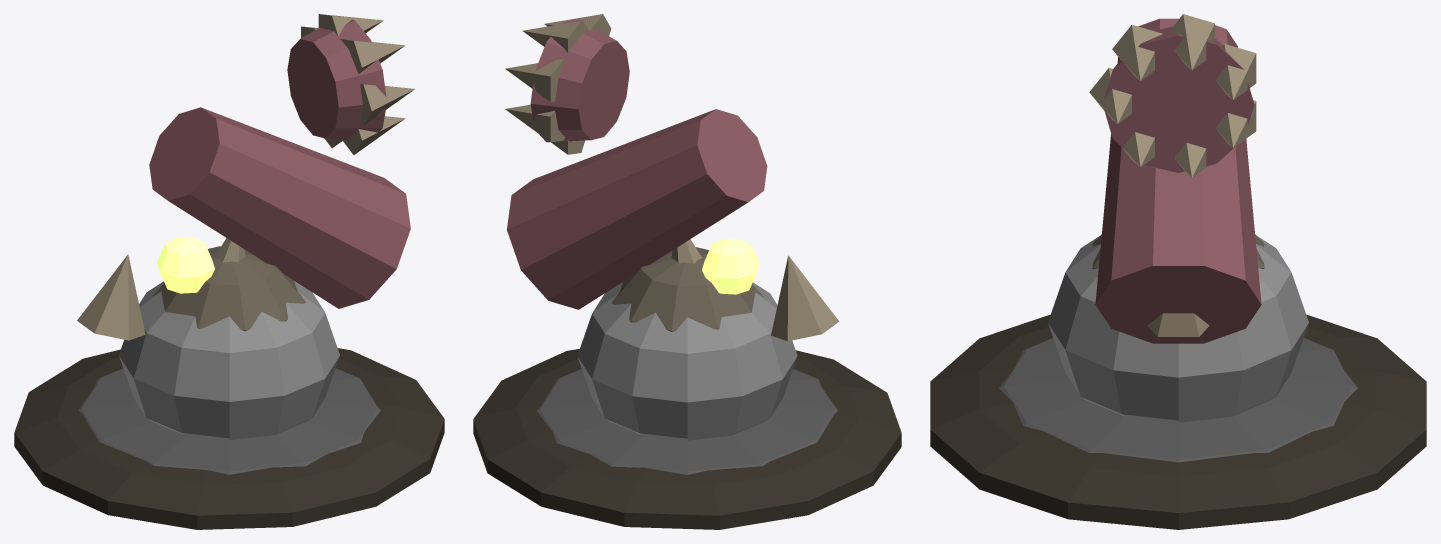
Rendered from bl_spitter_aa.glb.
3 views of the same model, side by side, from view 1: azimuth 30°, elevation 25°; view 2: azimuth 150°, elevation 25°; view 3: azimuth 270°, elevation 25° (orthographic). The views are drawn at different scales.
Parts seen in each view (by area): view 1: body, turret; view 2: body, turret; view 3: body, turret.
Boxes of the visible parts, x1,y1,x2,y2 form: body: (14, 281, 444, 529); turret: (77, 14, 414, 340); body: (473, 282, 901, 529); turret: (505, 14, 839, 341); body: (930, 235, 1426, 529); turret: (1089, 14, 1264, 343).
Size of the model in its own units: 27.45 by 29.63 by 26.77.
